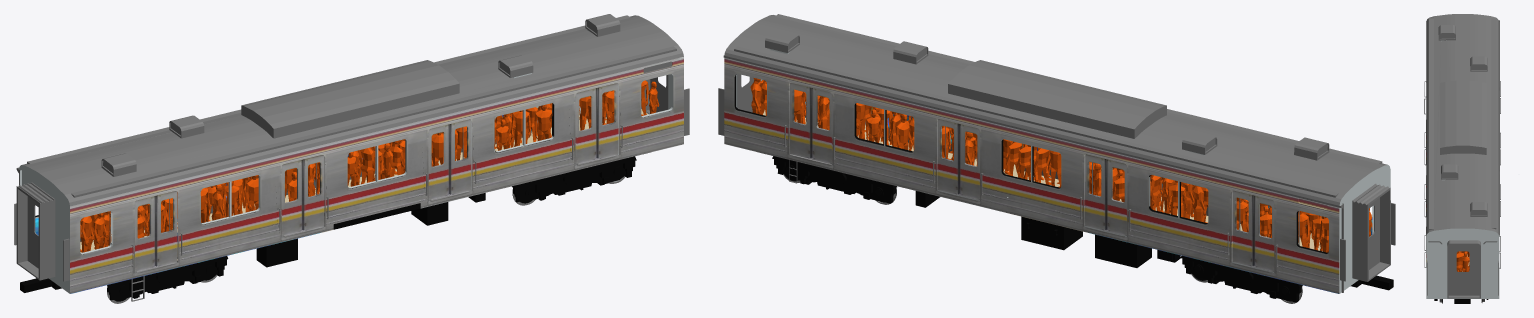
Rendered from train-high.glb.
The picture shows the model from 3 angles, left to right: view 1: azimuth 30°, elevation 25°; view 2: azimuth 150°, elevation 25°; view 3: azimuth 270°, elevation 25°; orthographic projection. The views are drawn at different scales.
Visible parts, largest first — view 1: Full Train.002, Door.032, Peron Door.002, Cylinder.017, Cylinder.040, Cylinder.011; view 2: Full Train.002, Door.032, Peron Door.002, Peron Door 2.002; view 3: Full Train.002, Peron Door 2.002, Cylinder.086, Cylinder.063.
Part boxes in pixels (x1,y1,x2,y2): Full Train.002: [14, 14, 689, 303]; Door.032: [134, 83, 618, 272]; Peron Door.002: [27, 196, 38, 268]; Cylinder.017: [534, 104, 552, 140]; Cylinder.040: [511, 110, 530, 146]; Cylinder.011: [359, 147, 375, 184]; Full Train.002: [718, 14, 1395, 303]; Door.032: [790, 83, 1321, 271]; Peron Door.002: [1369, 197, 1379, 269]; Peron Door 2.002: [738, 74, 753, 112]; Full Train.002: [1424, 14, 1500, 303]; Peron Door 2.002: [1448, 245, 1479, 295]; Cylinder.086: [1460, 251, 1469, 271]; Cylinder.063: [1456, 251, 1463, 271].
Size of the model in its own units: 21.95 by 4.62 by 3.89.
Materials: 3 (1 with a texture image).
